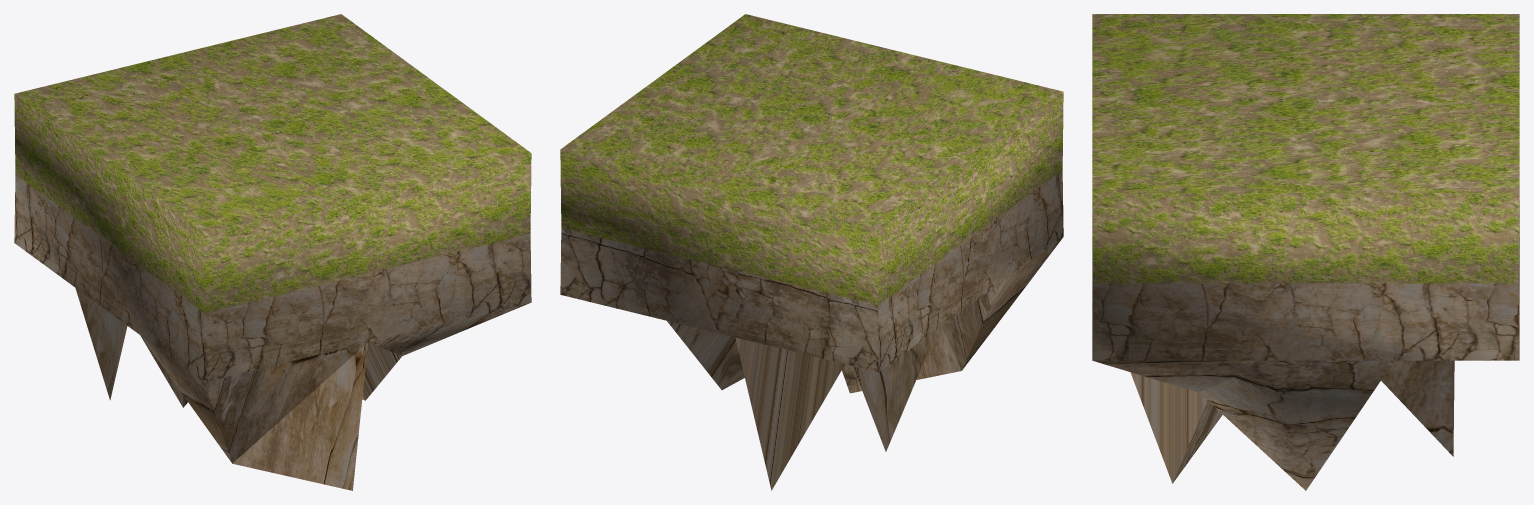
Rendered from blockGrass.fbx.
The picture shows the model from 3 angles, left to right: view 1: azimuth 30°, elevation 25°; view 2: azimuth 150°, elevation 25°; view 3: azimuth 270°, elevation 25°; orthographic projection. The views are drawn at different scales.
Parts seen in each view (by area): view 1: pCube339; view 2: pCube339; view 3: pCube339.
Part boxes in pixels (x1=…): pCube339: x1=14, y1=14, x2=531, y2=490; pCube339: x1=560, y1=14, x2=1063, y2=490; pCube339: x1=1092, y1=14, x2=1519, y2=490.
Size of the model in its own units: 5.41 by 5.2 by 5.45.
Materials: 2 (2 with a texture image).
